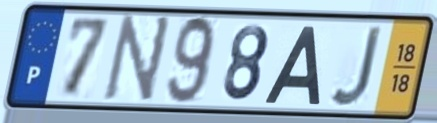7: (63, 15, 110, 101)
8: (221, 22, 271, 104)
9: (162, 13, 217, 110)
A: (260, 24, 322, 106)
J: (328, 23, 386, 110)
N: (99, 12, 176, 107)
